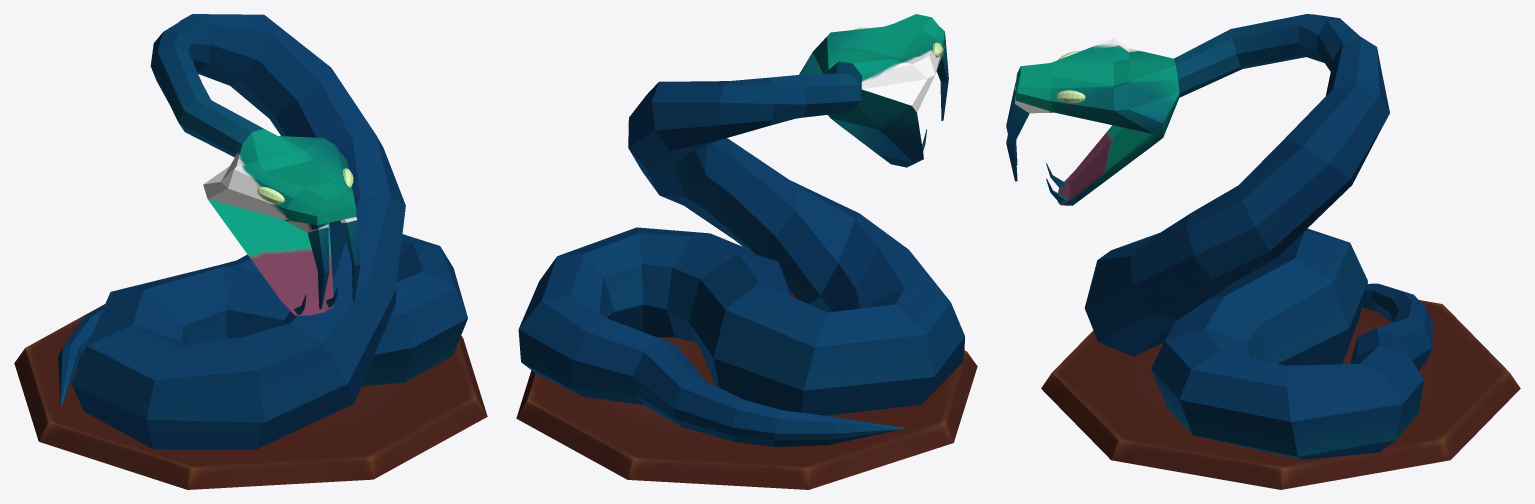
File: Asset_Enemy_Snake.fbx
3 views of the same model, side by side, from view 1: azimuth 30°, elevation 25°; view 2: azimuth 150°, elevation 25°; view 3: azimuth 270°, elevation 25° (orthographic). The views are drawn at different scales.
Parts seen in each view (by area): view 1: Asset_Enemy_Snake, snake_stand; view 2: Asset_Enemy_Snake, snake_stand; view 3: Asset_Enemy_Snake, snake_stand.
Part boxes in pixels (x1,y1,x2,y2): Asset_Enemy_Snake: (58,14,467,449); snake_stand: (14,304,487,489); Asset_Enemy_Snake: (518,14,964,446); snake_stand: (516,291,977,489); Asset_Enemy_Snake: (1006,14,1432,459); snake_stand: (1041,300,1520,489).
Bounding box in the file's own units: 69.96 × 55.5 × 75.04.
